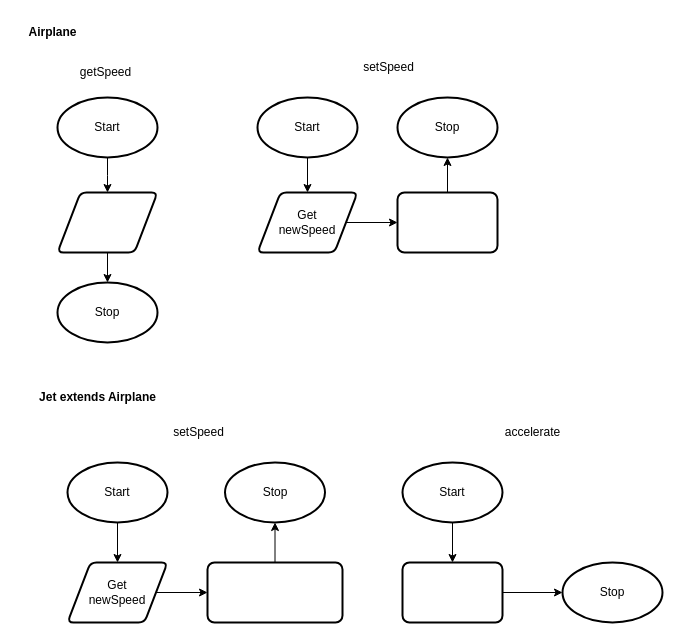
Image size: 680x640. Some labels were removed from this diagram. The shapes that lost their labels are listed below. From the top down, each one's centre as x and y in pixels, then its label:
At pixel 107 222: "return this.speed".
At pixel 447 222: "this.speed = newSpeed".
At pixel 274 592: "super.setSpeed( newSpeed * 2)".
At pixel 452 592: "super.setSpeed( this.speed * 2)".
